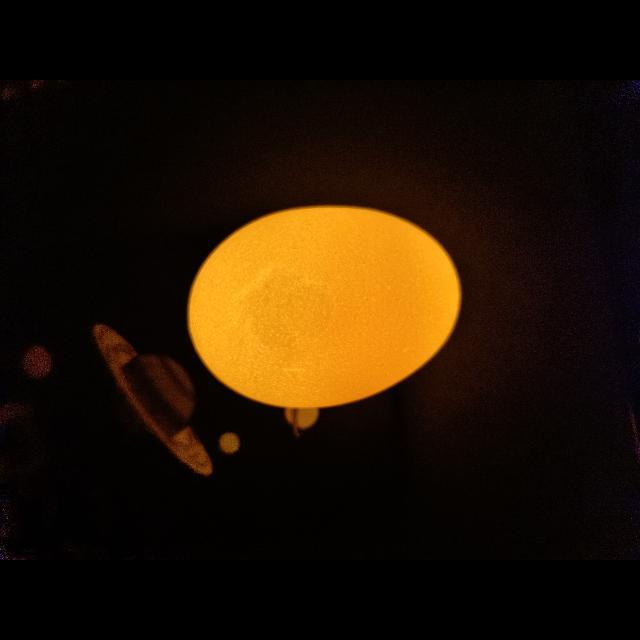AA - Premium: (188, 206, 461, 429), (188, 206, 461, 409)
